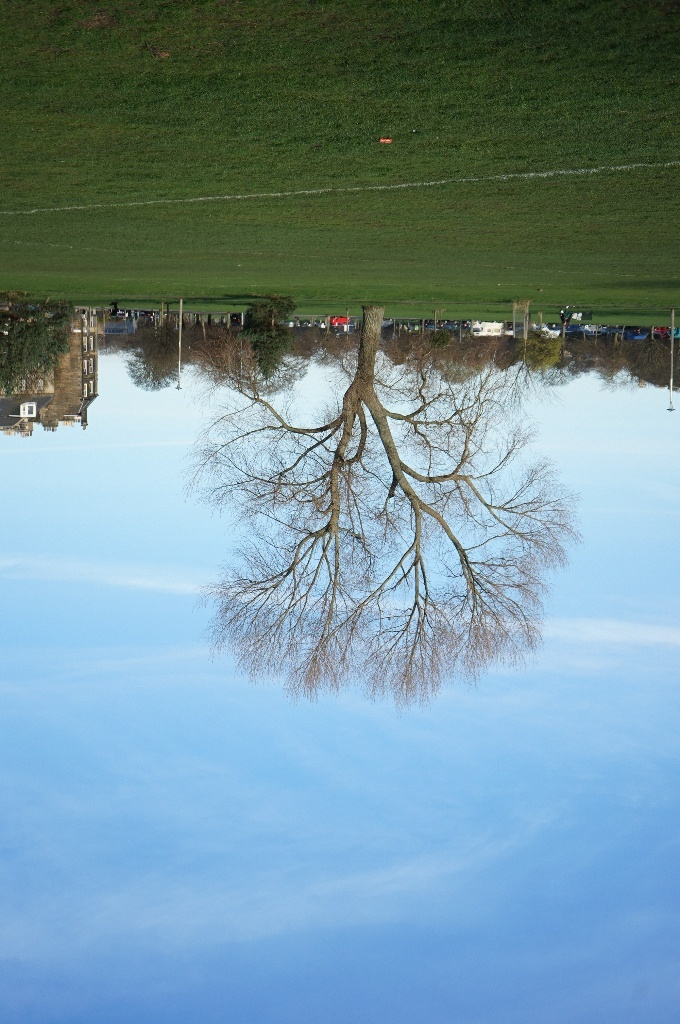Tree: (166, 275, 593, 757)
